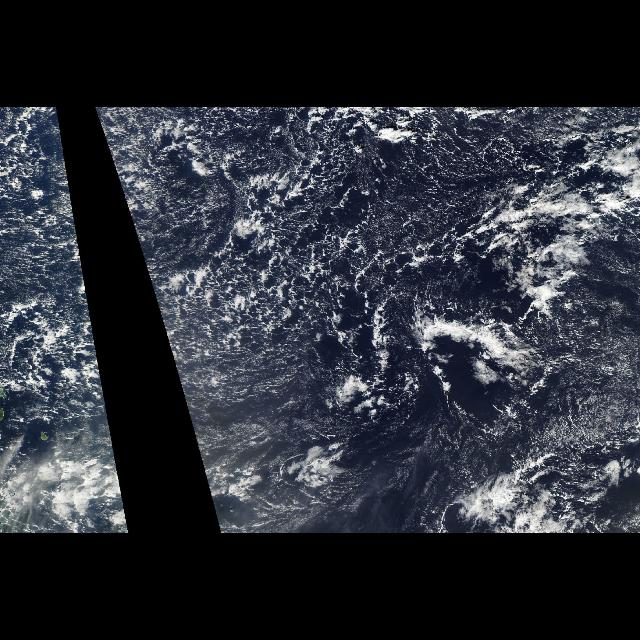Fish: (418, 128, 624, 534)
Gravel: (96, 109, 586, 432), (3, 108, 109, 422)
Sugar: (544, 304, 634, 454)
